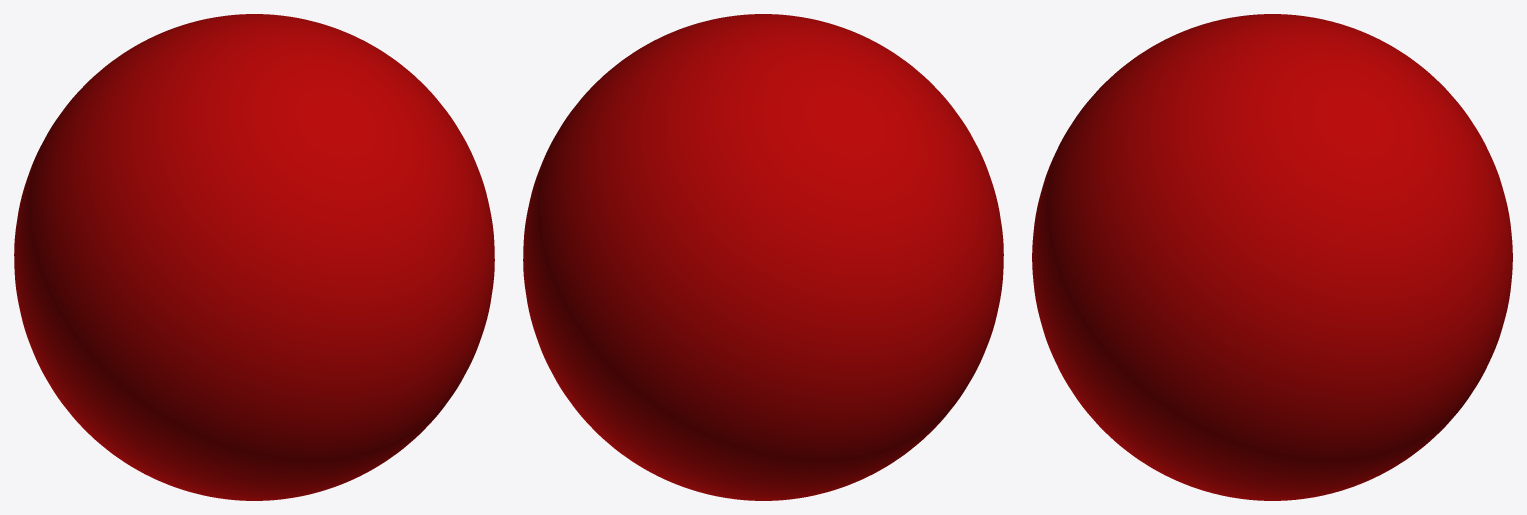
File: planet_test2.fbx
3 renders of one model, left to right at view 1: azimuth 30°, elevation 25°; view 2: azimuth 150°, elevation 25°; view 3: azimuth 270°, elevation 25°, orthographic.
Parts seen in each view (by area): view 1: pSphere2; view 2: pSphere2; view 3: pSphere2.
Part boxes in pixels (bbox=[...]): pSphere2: bbox=[14, 14, 494, 500]; pSphere2: bbox=[523, 14, 1003, 500]; pSphere2: bbox=[1032, 14, 1512, 500].
Size of the model in its own units: 2.06 by 2.1 by 2.06.
